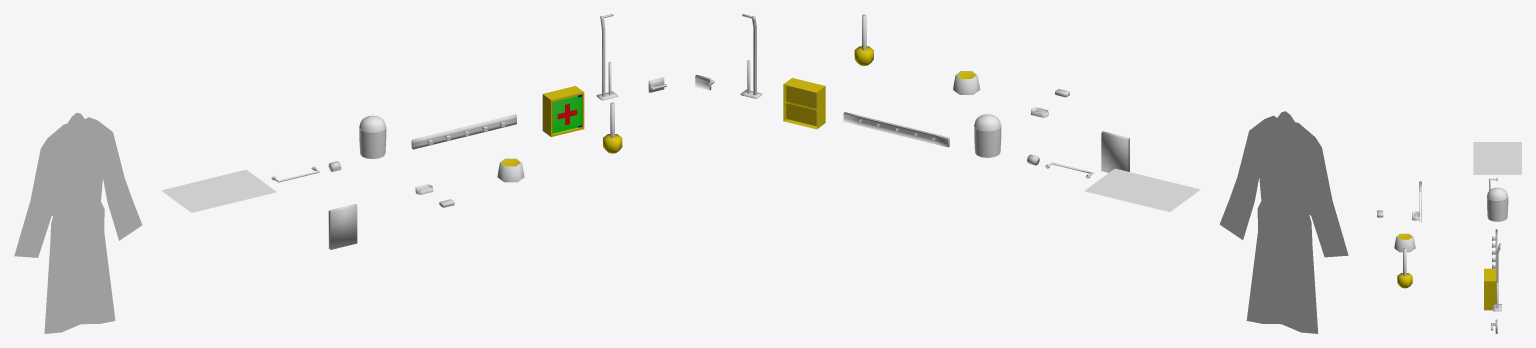
Rendered from set_bathroom_t.fbx.
The picture shows the model from 3 angles, left to right: view 1: azimuth 30°, elevation 25°; view 2: azimuth 150°, elevation 25°; view 3: azimuth 270°, elevation 25°; orthographic projection. The views are drawn at different scales.
Parts seen in each view (by area): view 1: Bathrode, bath_mat, Rack, Hanger, bathroom_trash, medecine_cabinet, medecine_cabinet_door, Toilet_Brush_bowl, Toilet_brush; view 2: Bathrode, bath_mat, medecine_cabinet, Hanger, bathroom_trash, Rack, Toilet_Brush_bowl, Toilet_brush; view 3: bath_mat, bathroom_trash, medecine_cabinet, Toilet_Brush_bowl, Toilet_brush, PT_holder, Hanger.
Boxes of the visible parts, x1,y1,x2,y2 form: Bathrode: [14, 113, 142, 333]; bath_mat: [161, 170, 276, 212]; Rack: [328, 204, 357, 249]; Hanger: [411, 114, 516, 149]; bathroom_trash: [359, 115, 386, 158]; medecine_cabinet: [542, 86, 584, 136]; medecine_cabinet_door: [552, 95, 581, 133]; Toilet_Brush_bowl: [497, 158, 524, 182]; Toilet_brush: [603, 102, 622, 153]; Bathrode: [1219, 111, 1348, 333]; bath_mat: [1085, 168, 1199, 211]; medecine_cabinet: [783, 78, 825, 129]; Hanger: [843, 112, 949, 147]; bathroom_trash: [974, 114, 1001, 157]; Rack: [1101, 131, 1129, 172]; Toilet_Brush_bowl: [953, 71, 980, 94]; Toilet_brush: [854, 14, 873, 65]; bath_mat: [1473, 142, 1521, 174]; bathroom_trash: [1486, 187, 1508, 221]; medecine_cabinet: [1484, 268, 1496, 310]; Toilet_Brush_bowl: [1394, 233, 1415, 252]; Toilet_brush: [1397, 248, 1412, 288]; PT_holder: [1493, 243, 1501, 311]; Hanger: [1492, 229, 1497, 268].
Size of the model in its own units: 607 by 194 by 149.
